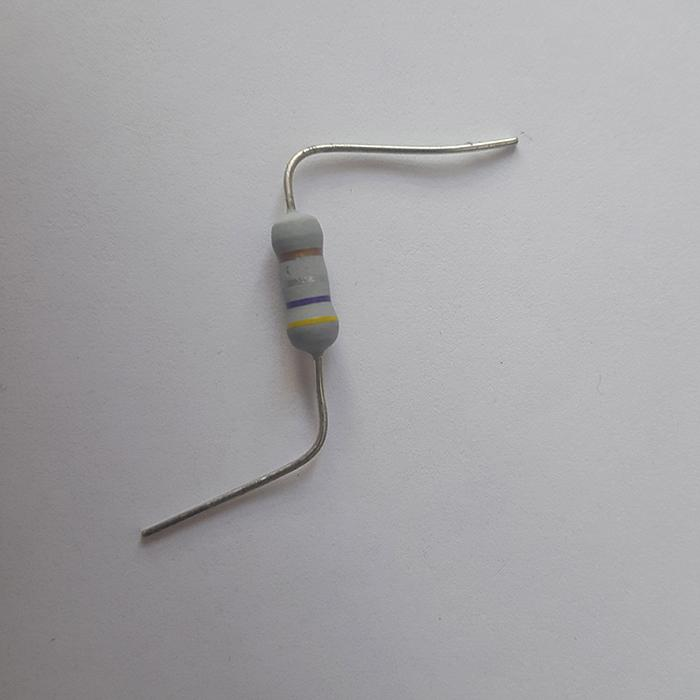resistor: (270, 209, 340, 356)
